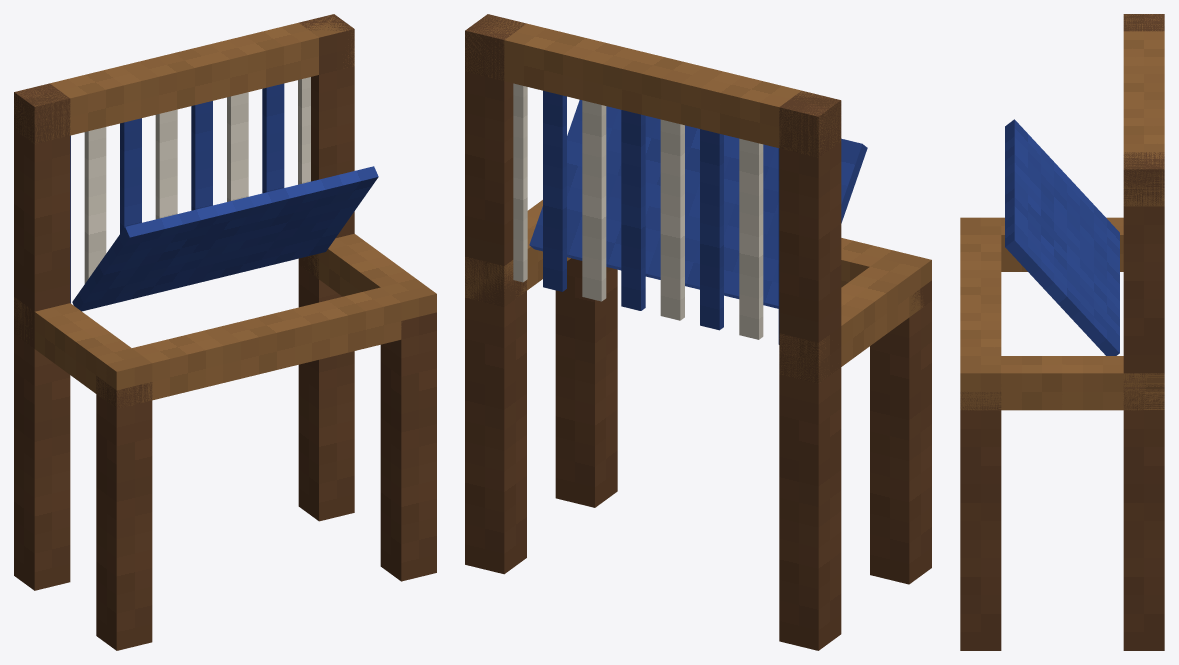
The model's file is metier_tisser.glb.
The picture shows the model from 3 angles, left to right: view 1: azimuth 30°, elevation 25°; view 2: azimuth 150°, elevation 25°; view 3: azimuth 270°, elevation 25°; orthographic projection. The views are drawn at different scales.
Visible parts, largest first — view 1: MetierTisser; view 2: MetierTisser; view 3: MetierTisser.
Part boxes in pixels (box(x1,y1,x2,y2)): MetierTisser: box(14, 14, 436, 650); MetierTisser: box(465, 14, 931, 650); MetierTisser: box(960, 14, 1164, 650).
Bounding box in the file's own units: 0.9 × 1.3 × 0.5.
Materials: 4 (4 with a texture image).
